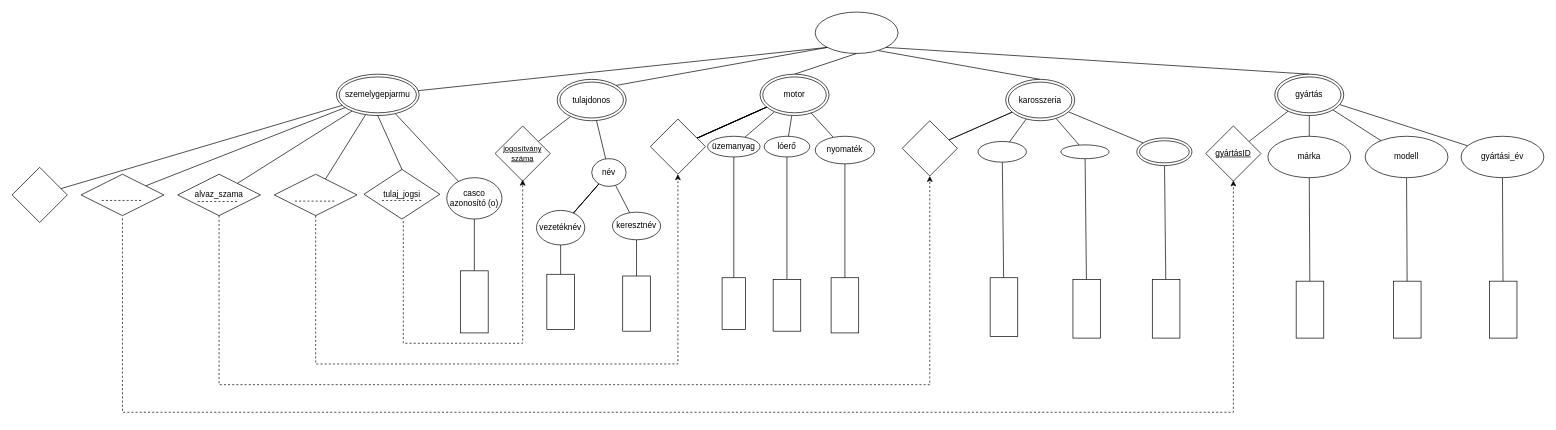
Image size: 1556x430. Some labels were removed from this diagram. Here are the shapes that lost their labels. From the top down, the centre of each, then its label:
the point at 856,32: gepjarmu
the point at 678,146: motorszám
the point at 929,148: alvázszám
the point at 1001,151: felület
the point at 1084,151: matrica
the point at 1164,151: szín
the point at 39,195: rendszam
the point at 122,195: gyartas_sorszama
the point at 315,195: motor_szama
